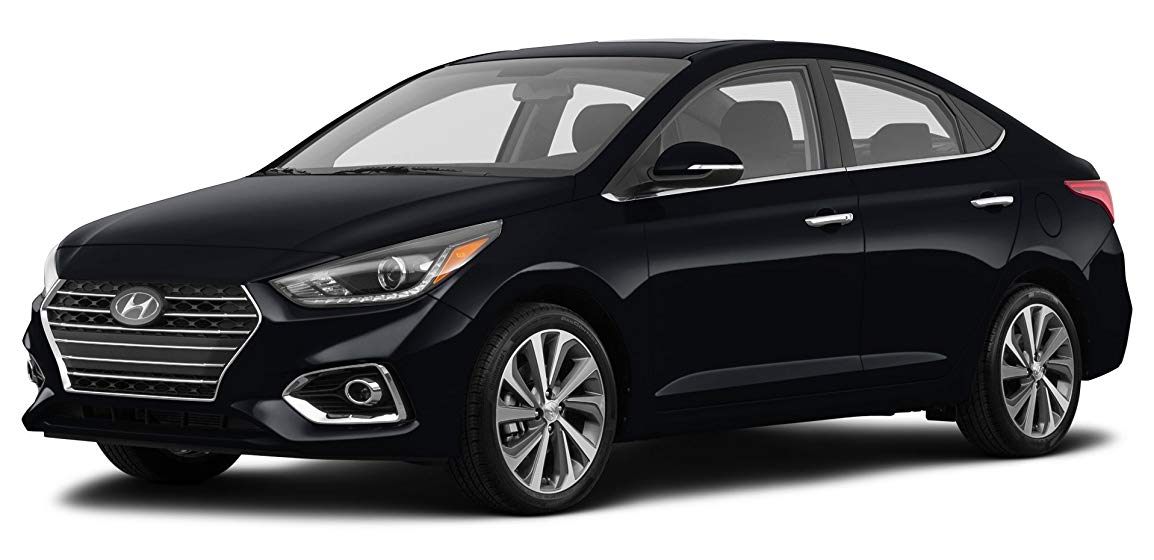accent: (16, 34, 1140, 525)
